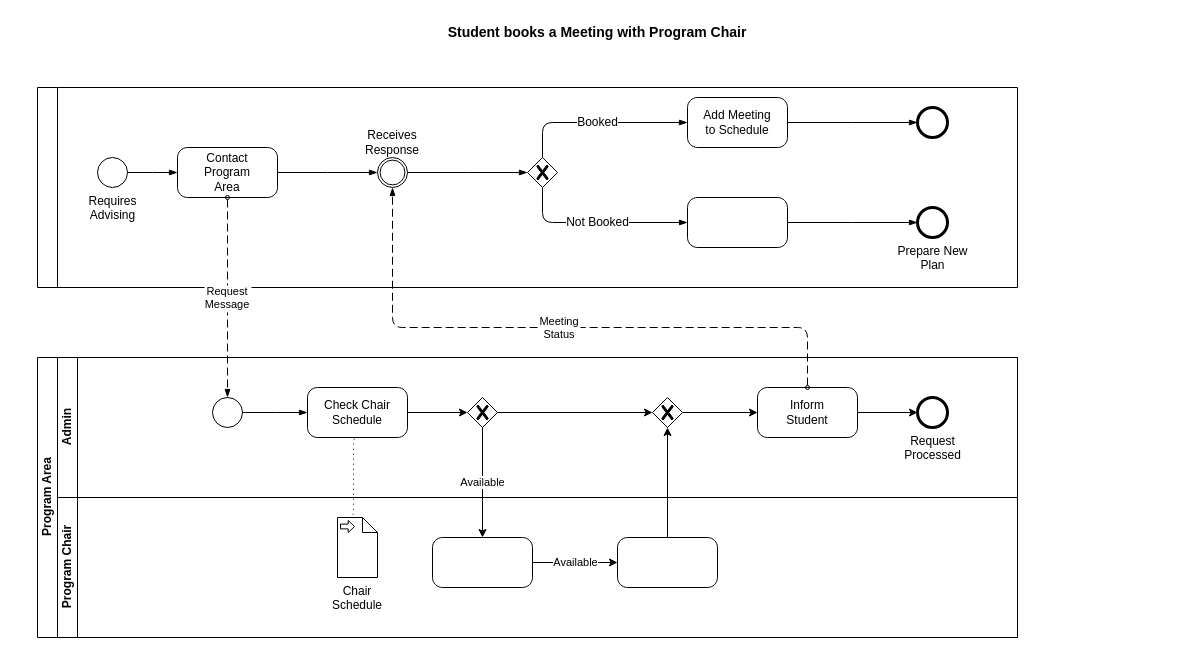
The diagram is 1194 pixels wide and 655 high, and some of its shapes have lost their labels. Here are the shapes that lost their labels. From the top down, the box of each, then its label:
(916, 106, 948, 138): Prepare Meeting
(36, 86, 1018, 288): Student
(686, 196, 788, 248): Evaluate Options
(212, 396, 242, 428): Receive Request
(432, 536, 532, 588): Approve Booking
(616, 536, 718, 588): Update Schedule
